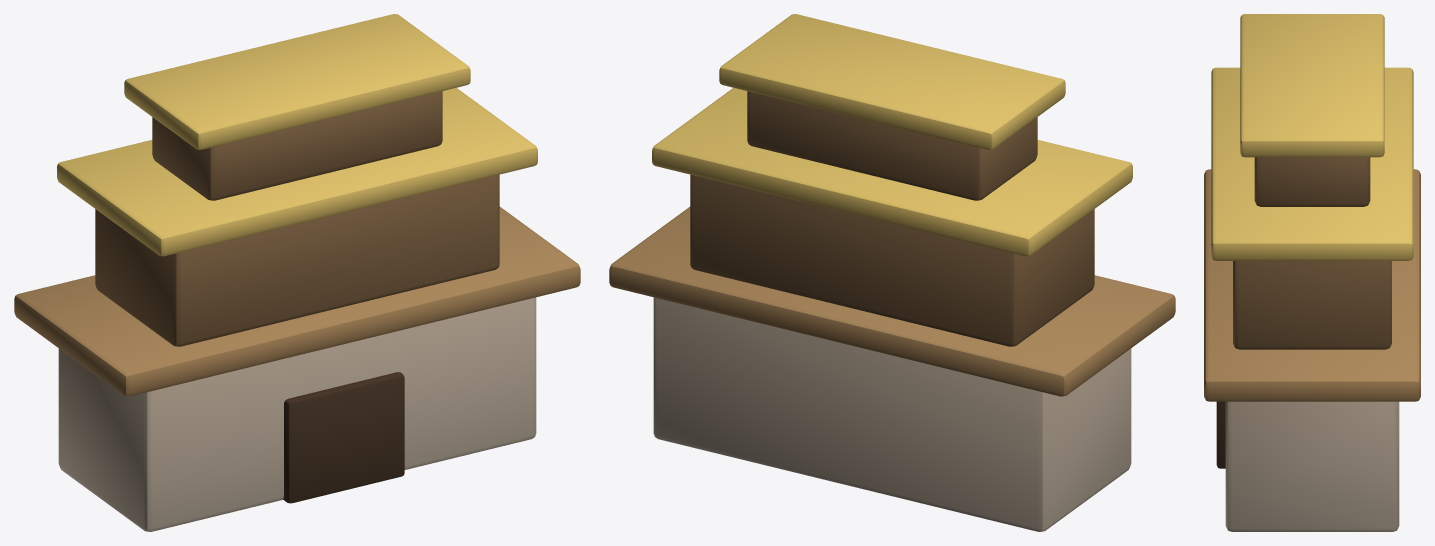
3 renders of one model, left to right at view 1: azimuth 30°, elevation 25°; view 2: azimuth 150°, elevation 25°; view 3: azimuth 270°, elevation 25°, orthographic. The views are drawn at different scales.
Parts seen in each view (by area): view 1: landmark_f2e607a2; view 2: landmark_f2e607a2; view 3: landmark_f2e607a2.
Boxes of the visible parts, box(x1,y1,x2,y2) form: landmark_f2e607a2: box(14, 14, 580, 531); landmark_f2e607a2: box(609, 14, 1175, 531); landmark_f2e607a2: box(1204, 14, 1420, 531).
Bounding box in the file's own units: 7 × 5.59 × 3.
